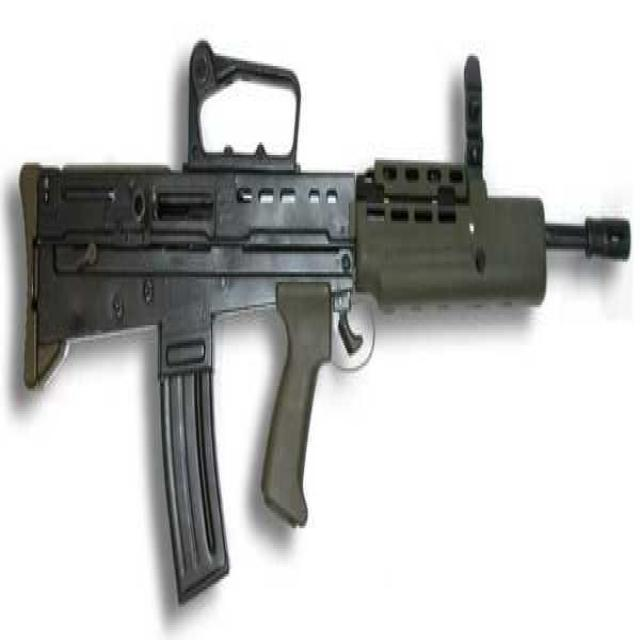heavyweapon: (6, 24, 636, 562)
